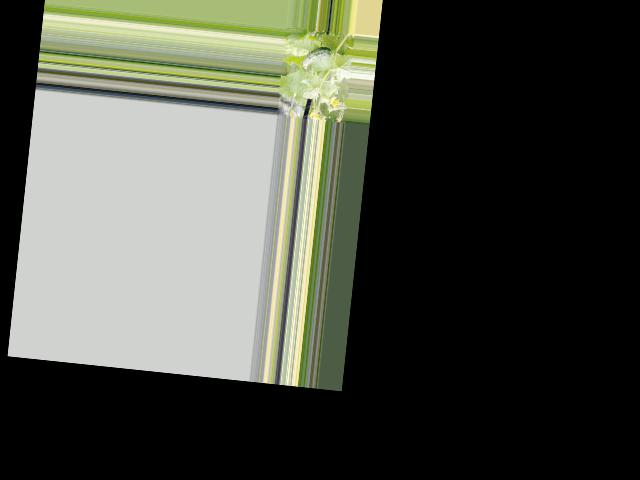cucumber: (301, 45, 332, 72)
